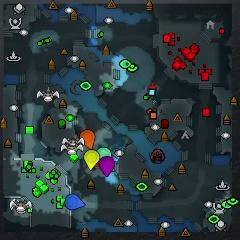p1: (65, 193, 86, 210)
p2: (98, 147, 112, 157)
p3: (99, 157, 116, 176)
p4: (85, 149, 100, 171)
p5: (79, 129, 95, 149)
